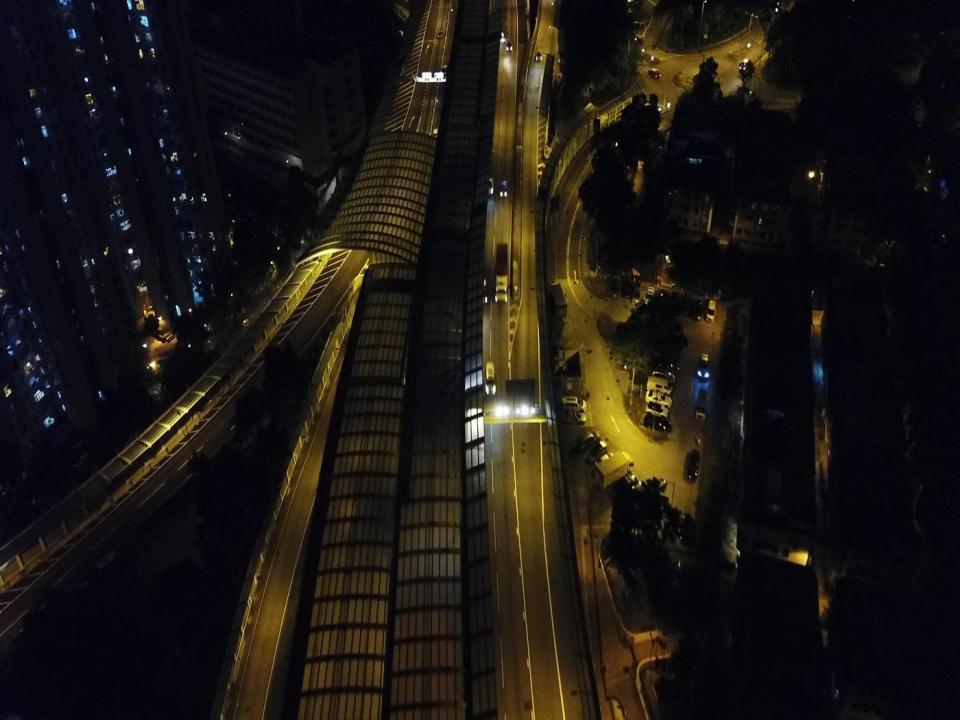bus: (694, 388, 708, 422)
car: (576, 429, 602, 454), (644, 389, 672, 411), (584, 440, 608, 464), (652, 356, 682, 375), (685, 448, 702, 481), (643, 413, 672, 432), (650, 367, 676, 386), (560, 395, 587, 413), (562, 406, 587, 425), (644, 400, 668, 419), (484, 360, 497, 394), (668, 291, 682, 317), (657, 289, 669, 315), (620, 275, 632, 301), (691, 298, 703, 322), (680, 293, 691, 317), (645, 284, 656, 308), (632, 280, 643, 304), (706, 299, 716, 323), (499, 176, 508, 200), (739, 57, 750, 73), (648, 68, 662, 80), (486, 176, 494, 196), (535, 48, 542, 62), (505, 39, 512, 52), (436, 29, 444, 40)
truck: (594, 450, 634, 490), (494, 242, 509, 303)
van: (646, 376, 674, 397), (697, 353, 710, 379)
